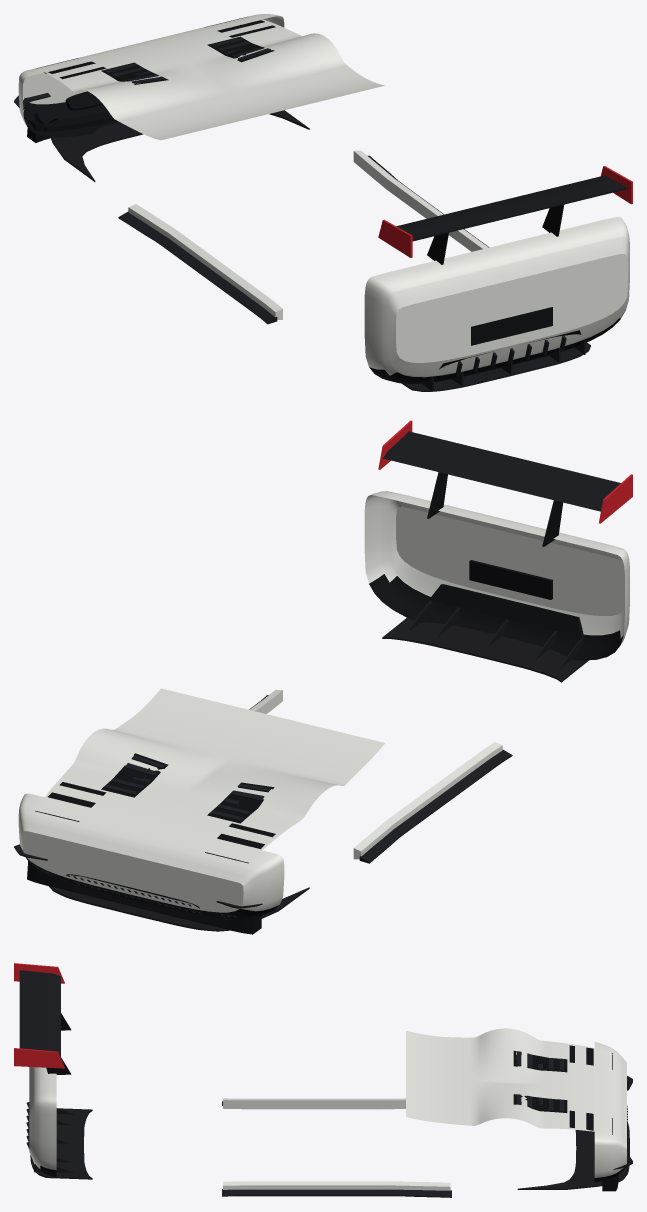
Rendered from kit_track.glb.
3 renders of one model, top to bottom at view 1: azimuth 30°, elevation 25°; view 2: azimuth 150°, elevation 25°; view 3: azimuth 270°, elevation 25°, orthographic. The views are drawn at different scales.
Parts seen in each view (by area): view 1: hood__track, bumper_front__track, bumper_rear__track, spoiler__track, skirts__track; view 2: bumper_front__track, hood__track, bumper_rear__track, spoiler__track, skirts__track; view 3: hood__track, bumper_front__track, skirts__track, bumper_rear__track, spoiler__track.
Boxes of the visible parts, box(x1,y1,x2,y2) form: hood__track: box(36, 16, 384, 140); bumper_front__track: box(14, 14, 627, 362); bumper_rear__track: box(364, 217, 629, 391); spoiler__track: box(378, 166, 632, 264); skirts__track: box(118, 150, 489, 324); bumper_front__track: box(14, 507, 624, 934); hood__track: box(35, 688, 384, 863); bumper_rear__track: box(364, 491, 629, 682); spoiler__track: box(378, 420, 632, 546); skirts__track: box(249, 689, 512, 863); hood__track: box(406, 1028, 612, 1134); bumper_front__track: box(517, 1042, 632, 1191); skirts__track: box(222, 1098, 451, 1197); bumper_rear__track: box(26, 1067, 92, 1179); spoiler__track: box(14, 963, 71, 1074).
Size of what is drawn, in the model's own units: 1.72 by 1.15 by 4.48.
